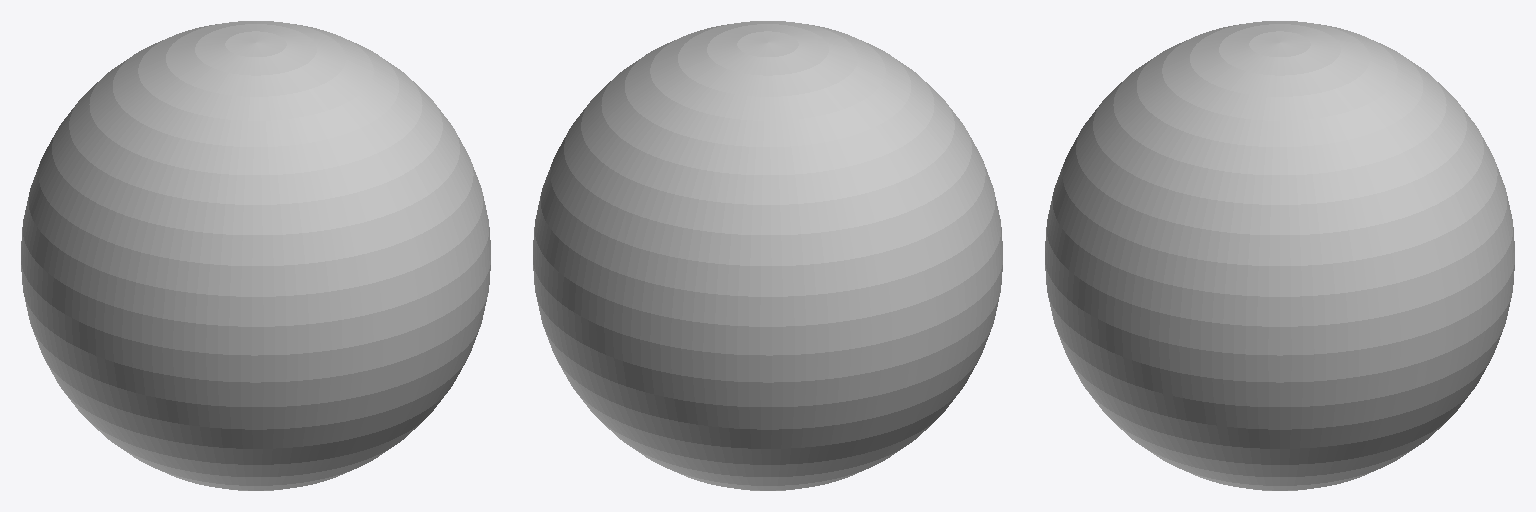
The model's file is Pluto.obj.
3 renders of one model, left to right at view 1: azimuth 30°, elevation 25°; view 2: azimuth 150°, elevation 25°; view 3: azimuth 270°, elevation 25°, orthographic.
Parts seen in each view (by area): view 1: Sphere_Material.002_0.005; view 2: Sphere_Material.002_0.005; view 3: Sphere_Material.002_0.005.
Part boxes in pixels (x1,y1,x2,y2): Sphere_Material.002_0.005: (21, 21, 490, 490); Sphere_Material.002_0.005: (533, 21, 1002, 490); Sphere_Material.002_0.005: (1045, 21, 1514, 490).
Bounding box in the file's own units: 1.48 × 1.48 × 1.48.